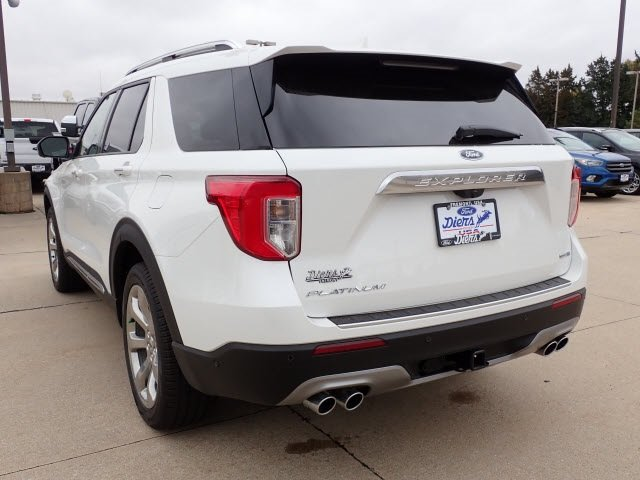Ford Explorer: (37, 38, 589, 428)
